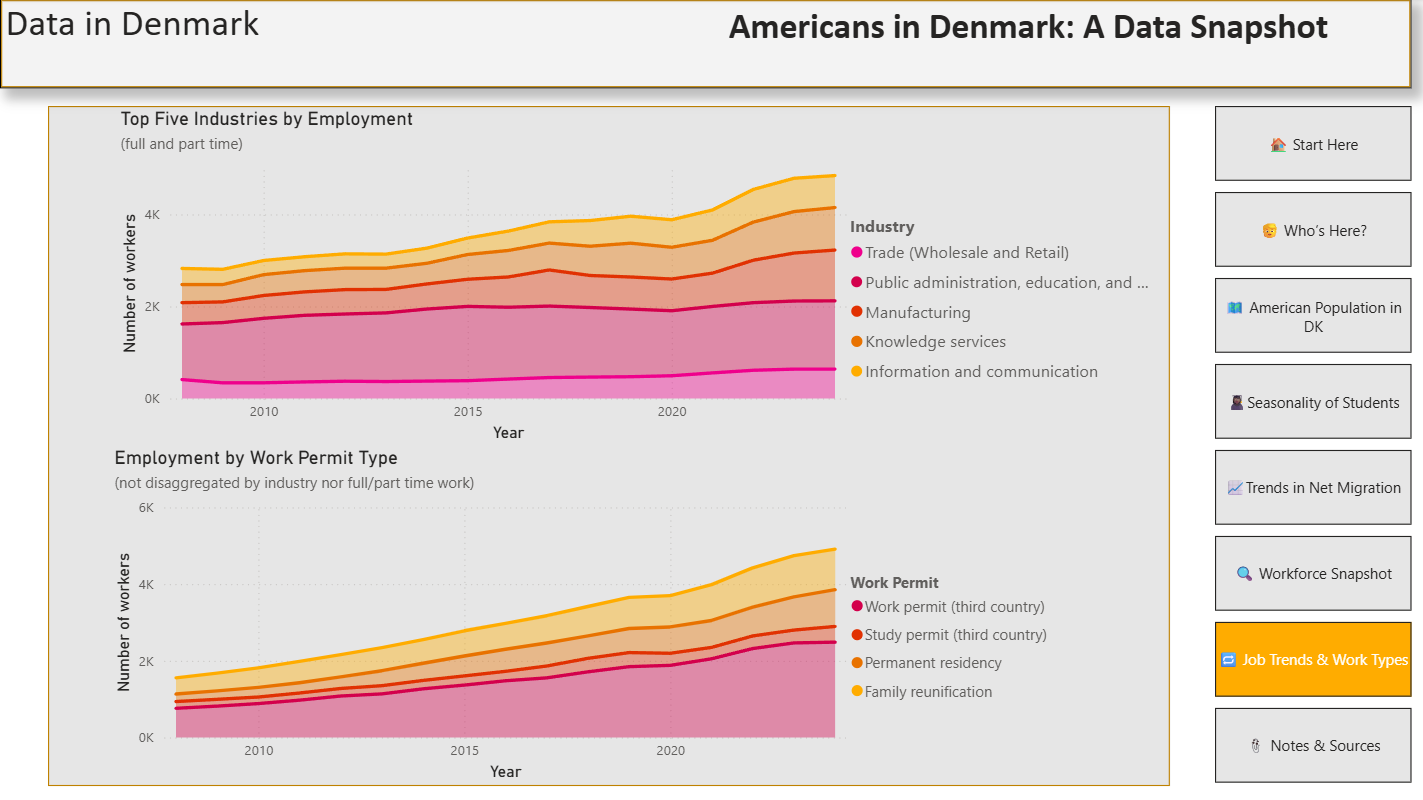

Layout of this report page (visuals, bound fields, positions):
{"tool":"powerbi","page":{"name":"🔁 Job Trends & Work Types","canvas":[1280,720],"ordinal":6},"visuals":[{"type":"shape","box":[0,0,1264,80],"z":0,"group":"g1"},{"type":"shape","box":[43.2,95.9,1005.4,609.5],"z":0},{"type":"group","id":"g1","title":"Group 3","box":[0,0,1264,80],"z":1000},{"type":"stackedAreaChart","title":"Top Five Industries by Employment","fields":{"Category":["Dim_Year.Year"],"Series":["fact_employment_timeseries_industries.Industry"],"Y":["Measures (do not delete).Employed by Industry (all)"]},"box":[103.2,96.3,944.2,304.2],"z":2000},{"type":"stackedAreaChart","title":"Employment by Work Permit Type","fields":{"Category":["Dim_Year.Year"],"Series":["fact_employment_permits_timeseries.Work Permit"],"Y":["Sum(fact_employment_permits_timeseries.Employed)"]},"box":[97.7,400.5,854.7,304.2],"z":3000},{"type":"textbox","title":"Data in Denmark","box":[0,0,265,80],"z":4000,"group":"g2"},{"type":"textbox","box":[640,0,623.8,80],"z":5000,"group":"g2"},{"type":"pageNavigator","box":[1088,96,176,608],"z":5000},{"type":"group","id":"g2","title":"Group 4","box":[0,0,1263.8,80],"z":5002,"group":"g1"}]}

Visuals, with their boxes in screenshot pixels (x1, y1, x2, y2), scaled from the page's 1280x720 canvas onto the 1423x800 screenshot:
shape: bbox=(0, 0, 1405, 89)
shape: bbox=(48, 107, 1166, 784)
"Group 3" group: bbox=(0, 0, 1405, 89)
"Top Five Industries by Employment" stackedAreaChart: bbox=(115, 107, 1164, 445)
"Employment by Work Permit Type" stackedAreaChart: bbox=(109, 445, 1059, 783)
"Data in Denmark" textbox: bbox=(0, 0, 295, 89)
textbox: bbox=(712, 0, 1405, 89)
pageNavigator: bbox=(1210, 107, 1405, 782)
"Group 4" group: bbox=(0, 0, 1405, 89)
